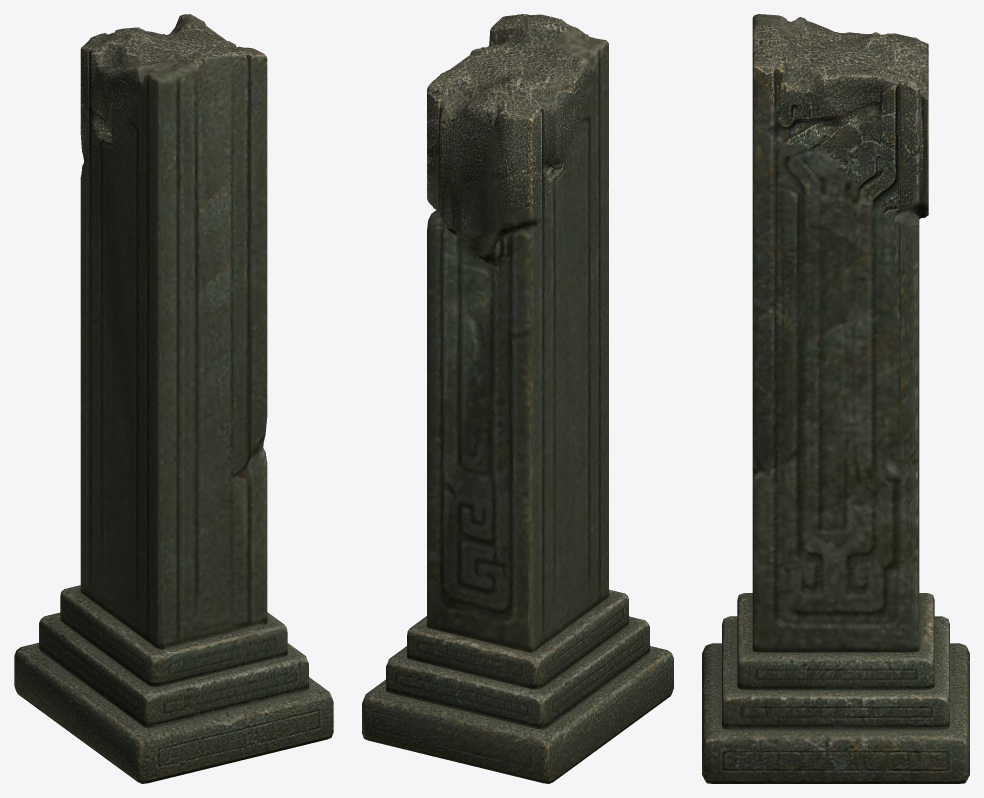
Rendered from stone-pillar.glb.
3 views of the same model, side by side, from view 1: azimuth 30°, elevation 25°; view 2: azimuth 150°, elevation 25°; view 3: azimuth 270°, elevation 25° (orthographic). The views are drawn at different scales.
Visible parts, largest first — view 1: tripo_node_fe0e29c5-9170-4a95-a36e-725ebf19a786; view 2: tripo_node_fe0e29c5-9170-4a95-a36e-725ebf19a786; view 3: tripo_node_fe0e29c5-9170-4a95-a36e-725ebf19a786.
Boxes of the visible parts, left/top/right/bottom form: tripo_node_fe0e29c5-9170-4a95-a36e-725ebf19a786: left=14, top=14, right=333, bottom=783; tripo_node_fe0e29c5-9170-4a95-a36e-725ebf19a786: left=362, top=14, right=673, bottom=783; tripo_node_fe0e29c5-9170-4a95-a36e-725ebf19a786: left=702, top=14, right=969, bottom=783.
Size of the model in its own units: 0.2988 by 0.998 by 0.3418.
Materials: 1 (1 with a texture image).
